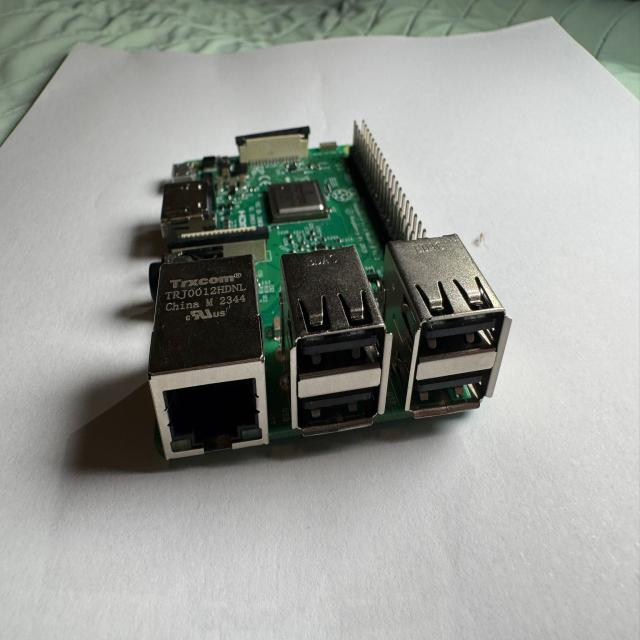CPU: (263, 179, 334, 231)
Ethernet: (148, 256, 268, 463)
GPIO: (347, 121, 431, 243)
HDMI: (155, 177, 222, 250)
Raspberry: (145, 123, 512, 467)
